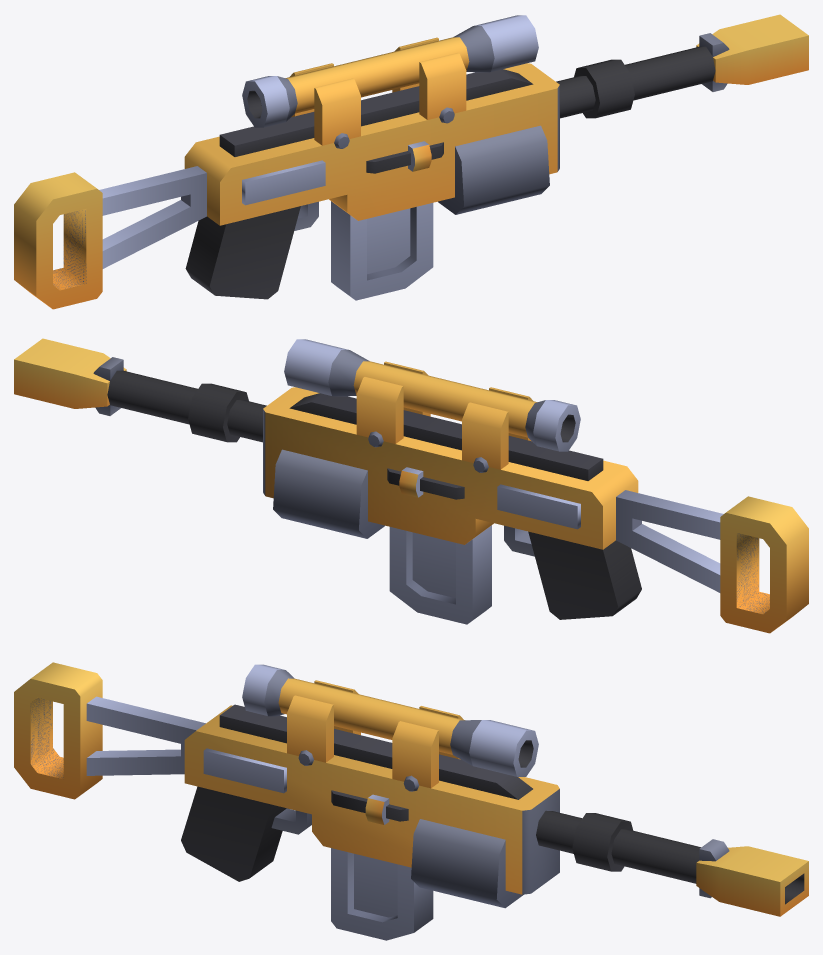
Rendered from Blaster_Minigun.obj.
The picture shows the model from 3 angles, top to bottom: view 1: azimuth 30°, elevation 25°; view 2: azimuth 150°, elevation 25°; view 3: azimuth 330°, elevation 25°; orthographic projection.
Visible parts, largest first — view 1: blaster-e, scope, magazine; view 2: blaster-e, scope, magazine; view 3: blaster-e, scope, magazine.
Boxes of the visible parts, left/top/right/bottom form: blaster-e: left=14, top=14, right=808, bottom=309; scope: left=242, top=15, right=538, bottom=148; magazine: left=331, top=201, right=433, bottom=300; blaster-e: left=14, top=338, right=808, bottom=633; scope: left=284, top=339, right=580, bottom=472; magazine: left=389, top=525, right=491, bottom=624; blaster-e: left=14, top=662, right=808, bottom=916; scope: left=242, top=664, right=538, bottom=791; magazine: left=331, top=848, right=433, bottom=940.
Size of the model in its own units: 1.39 by 0.405 by 0.1664.
1 material, 1 textured.
